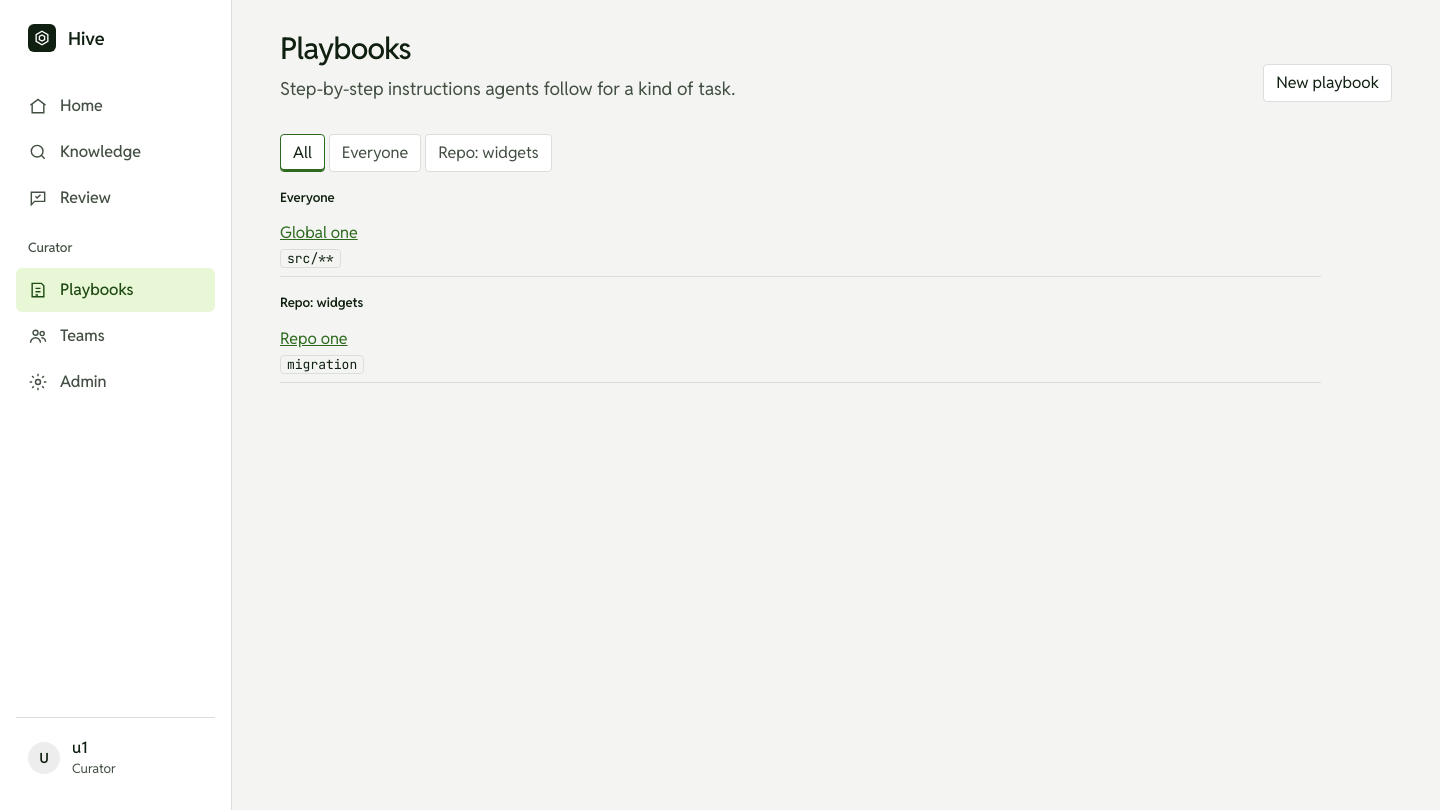
playbooks › lists active playbooks grouped by scope, global first, with a scope filter
Expected: the link "Global one" is shown, [280,222,358,243]
Expected: the headings read "Everyone", "Repo: widgets", in this order, [280,188,335,206]; [280,294,363,311]
Click the button "Repo: widgets" at (488, 152), box [425,134,552,172]
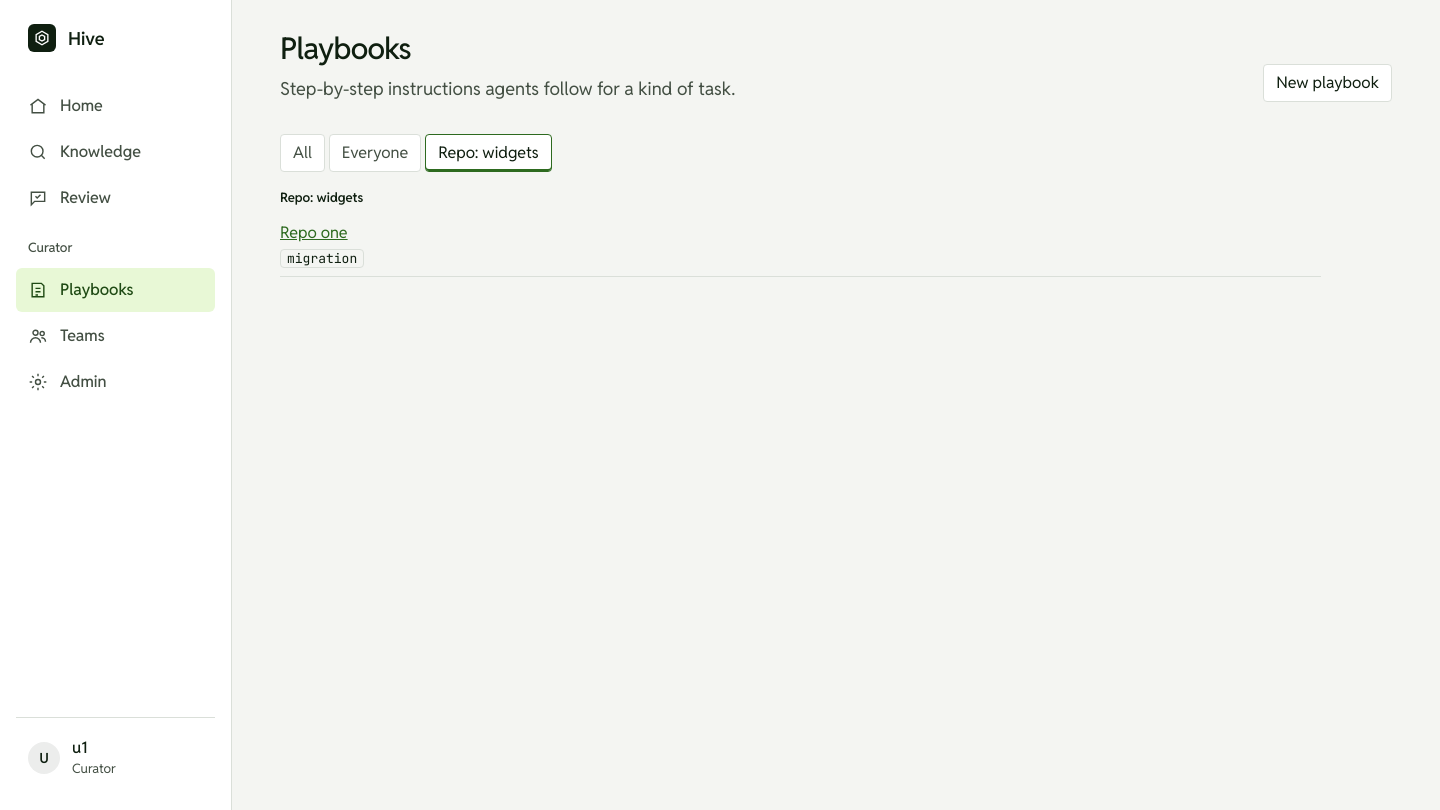
Expected: the text "migration" is shown, [280,249,364,268]
Result: the link "Global one" is gone
